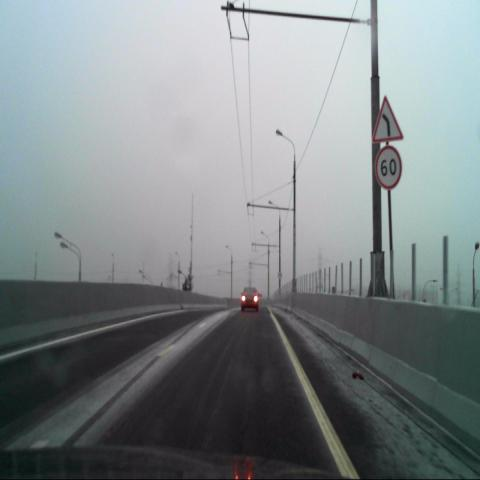1_11_1: (373, 92, 404, 141)
3_24: (376, 146, 402, 190)
